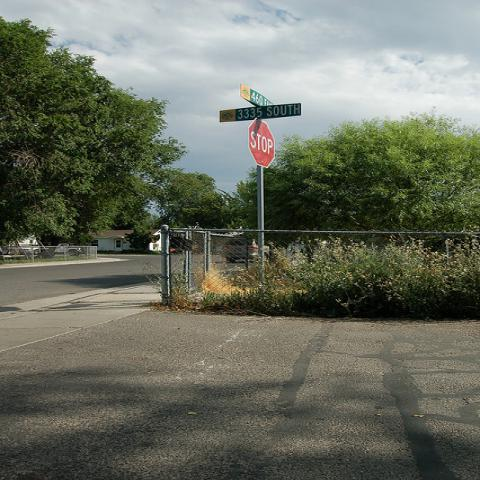car: (221, 238, 276, 264), (168, 237, 202, 253), (54, 243, 81, 256)
